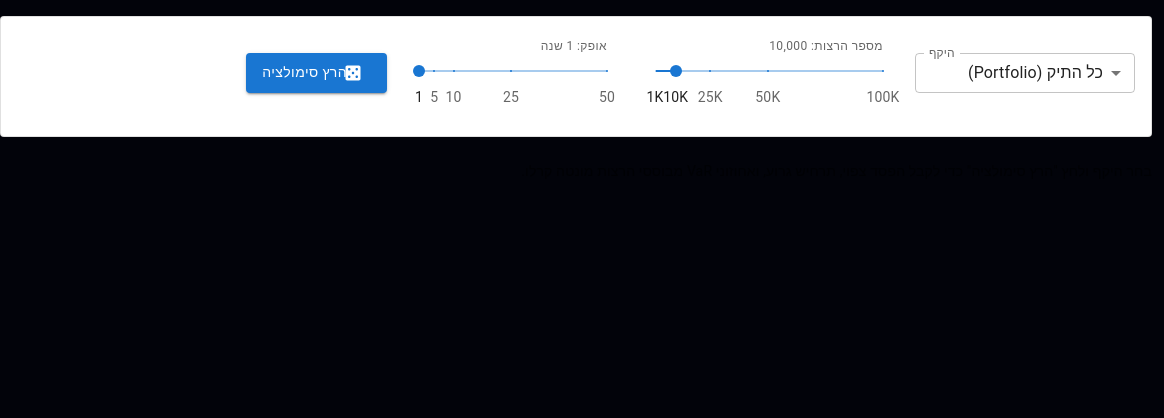
Test: Simulation › labels a multi-year result as a horizon total and shows the per-year average
This screenshot has width=1164, height=418.
Click the button "הרץ סימולציה" at [317, 73], box [246,53,387,93]
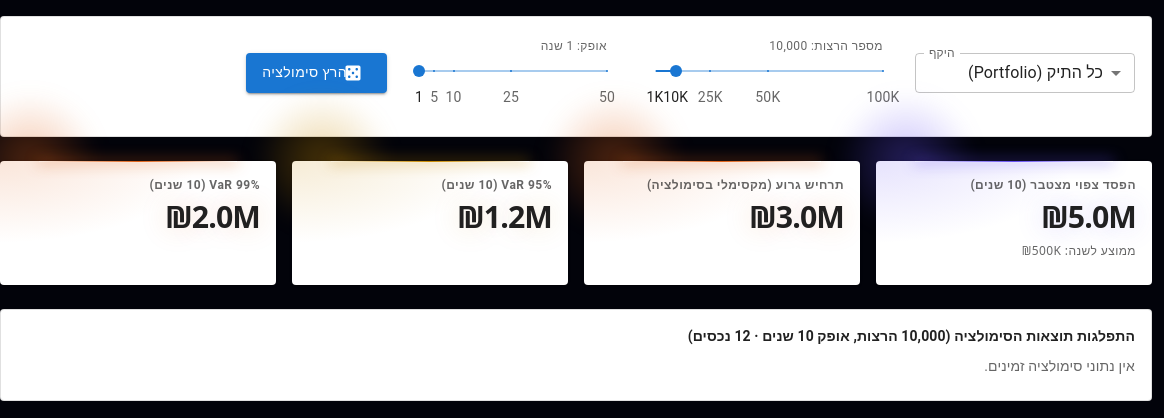
Result: the text "הפסד צפוי מצטבר (10 שנים)" is shown at [970,177,1136,193]
Result: the text "ממוצע לשנה: ₪500K" is shown at [1022,241,1136,261]
Result: the text "VaR 95% (10 שנים)" is shown at [442,177,552,193]
